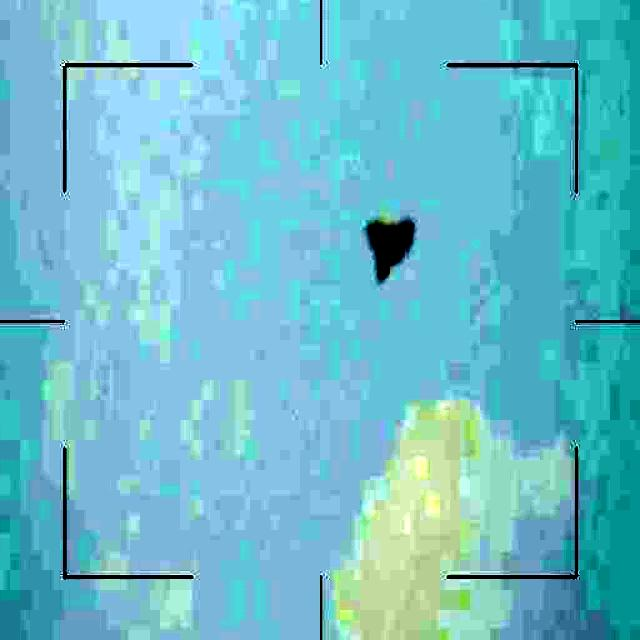bird: (368, 215, 419, 286)
